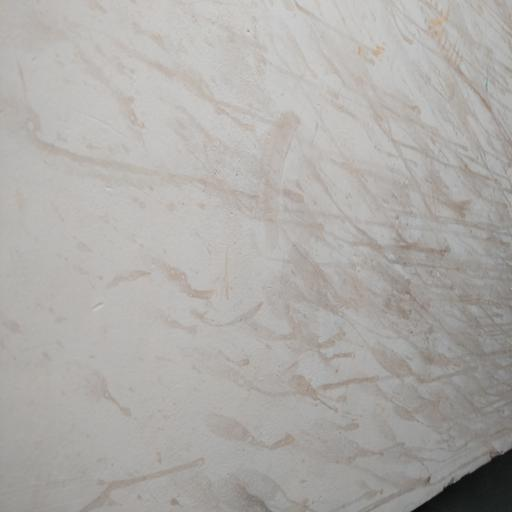stain: (105, 28, 512, 512)
